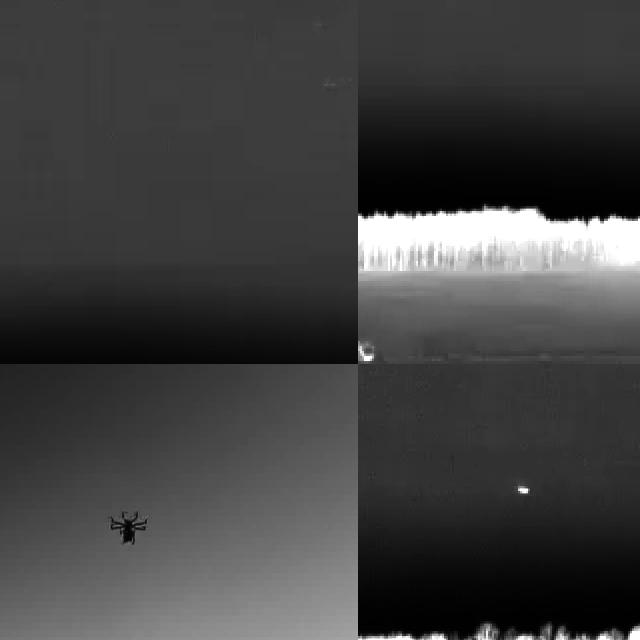0: (315, 71, 341, 101), (306, 14, 332, 44)
1: (512, 481, 542, 501)
drone: (106, 504, 152, 555)
